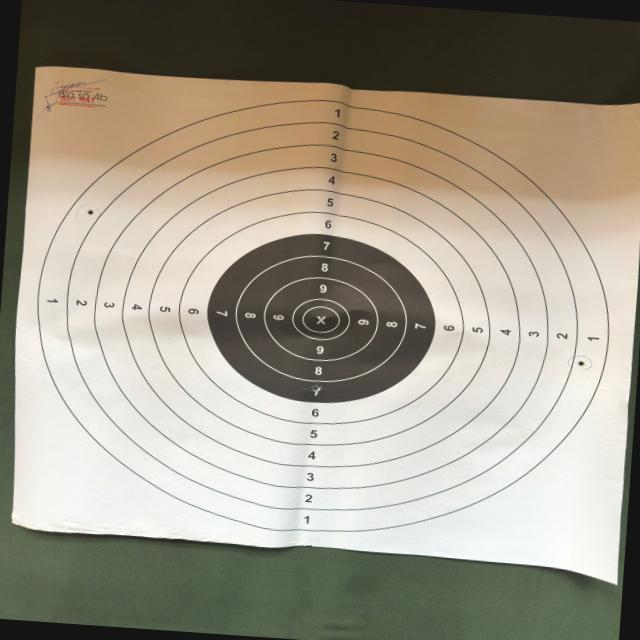bullet: (578, 358, 585, 366), (87, 208, 91, 215)
target: (10, 65, 640, 577)
